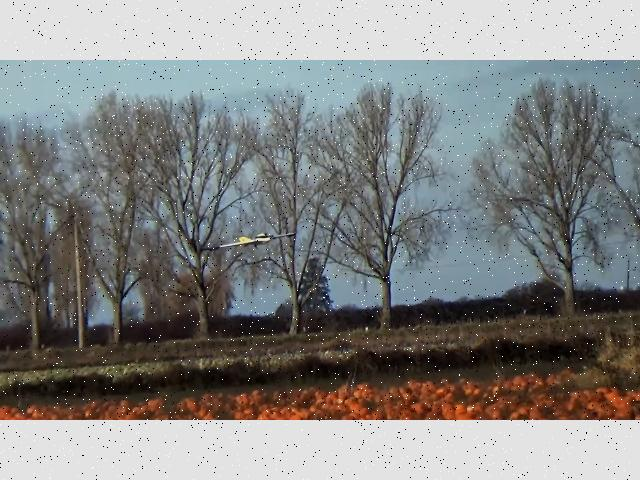Anti-Drone: (200, 232, 294, 253)
